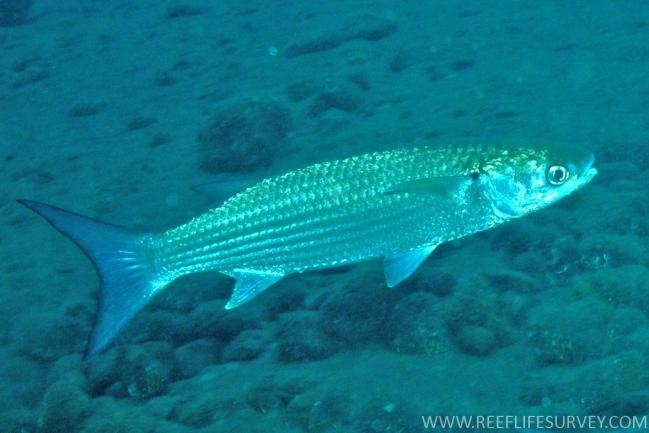fish: (16, 142, 598, 362)
